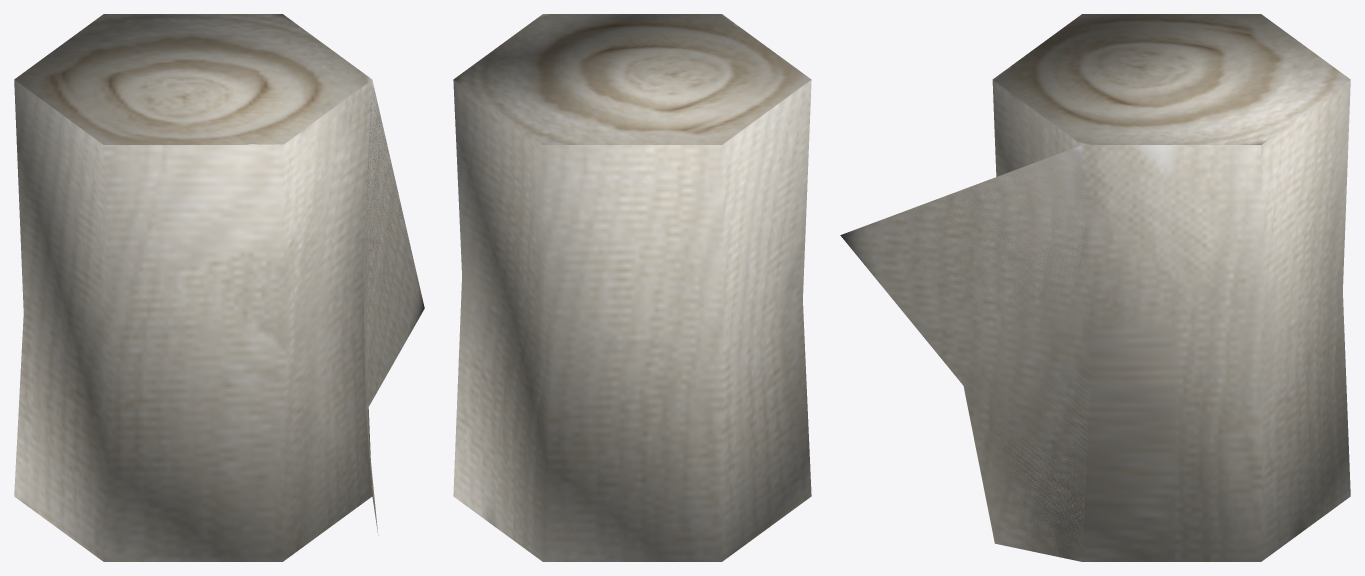
The model's file is bandage.glb.
3 renders of one model, left to right at view 1: azimuth 30°, elevation 25°; view 2: azimuth 150°, elevation 25°; view 3: azimuth 270°, elevation 25°, orthographic.
Visible parts, largest first — view 1: band_band_0; view 2: band_band_0; view 3: band_band_0.
Part boxes in pixels (x1,y1,x2,y2): band_band_0: (14,14,424,561); band_band_0: (453,14,811,561); band_band_0: (840,14,1350,561).
Size of the model in its own units: 0.1552 by 0.2302 by 0.2555.
1 material, 1 textured.
